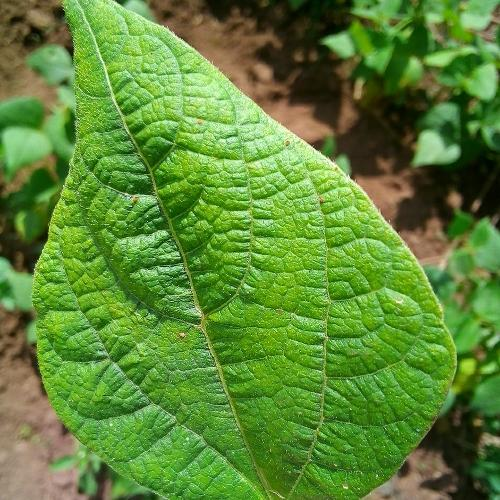sehat: (58, 119, 344, 460)
